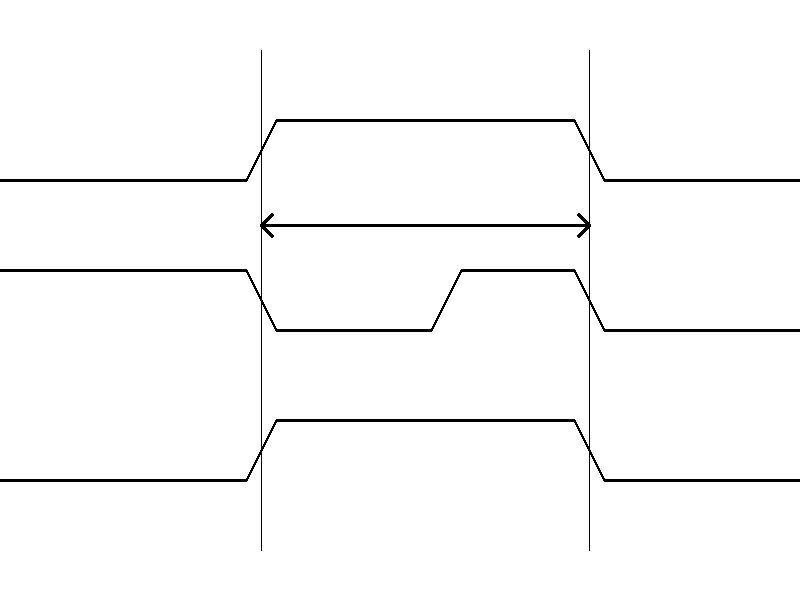double_arrow: (261, 210, 589, 240)
